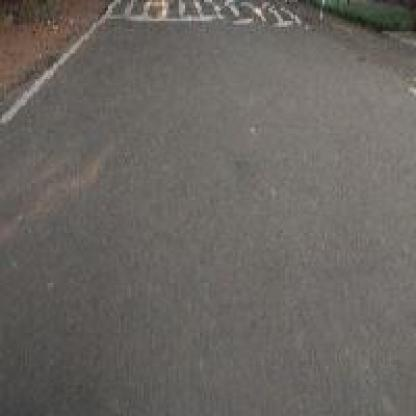Speed Bump: (102, 0, 310, 29)
